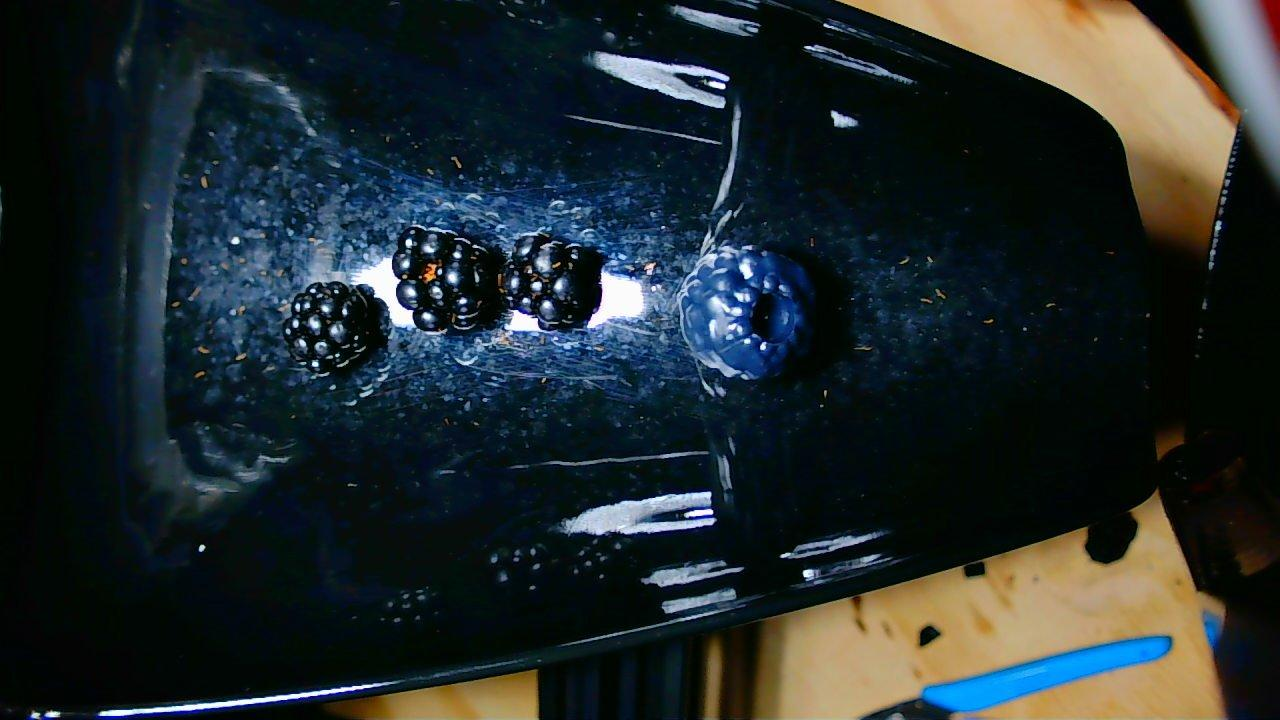berry: (677, 246, 815, 379), (392, 225, 499, 333), (501, 233, 603, 330), (283, 282, 376, 373)
